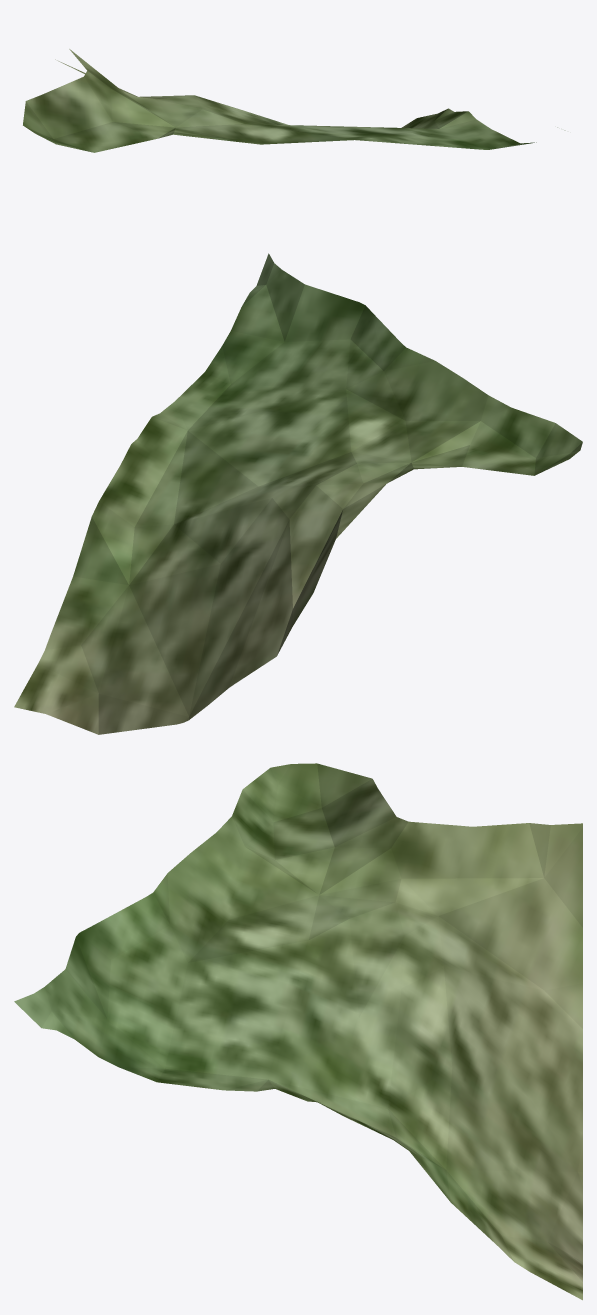
3 views of the same model, one above another, from view 1: azimuth 30°, elevation 25°; view 2: azimuth 150°, elevation 25°; view 3: azimuth 270°, elevation 25° (orthographic). The views are drawn at different scales.
Size of the model in its own units: 1.35 by 0.8139 by 1.37.
Materials: 1 (1 with a texture image).
